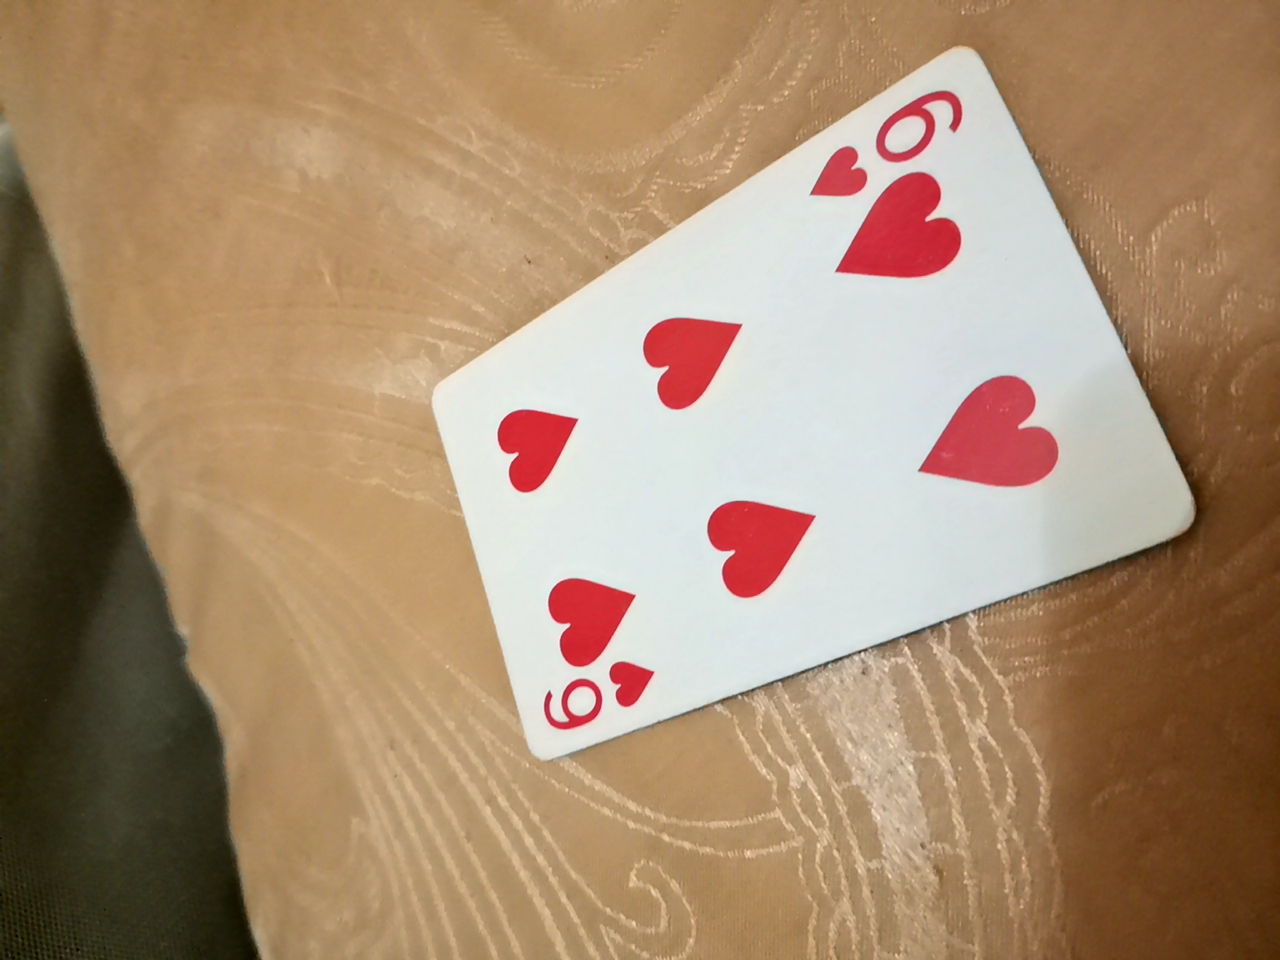hx 6: (386, 38, 1209, 734)
